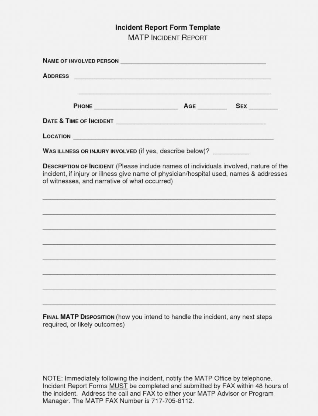textline: (40, 292, 278, 308), (41, 186, 278, 202), (40, 218, 278, 233), (41, 248, 278, 263), (39, 203, 279, 217), (40, 233, 279, 247), (41, 263, 278, 277), (71, 126, 276, 142), (40, 280, 278, 293), (72, 67, 277, 82), (75, 83, 274, 96), (114, 111, 268, 126), (119, 51, 268, 66), (94, 97, 181, 111), (211, 143, 253, 157), (248, 99, 282, 113), (197, 99, 229, 111)
